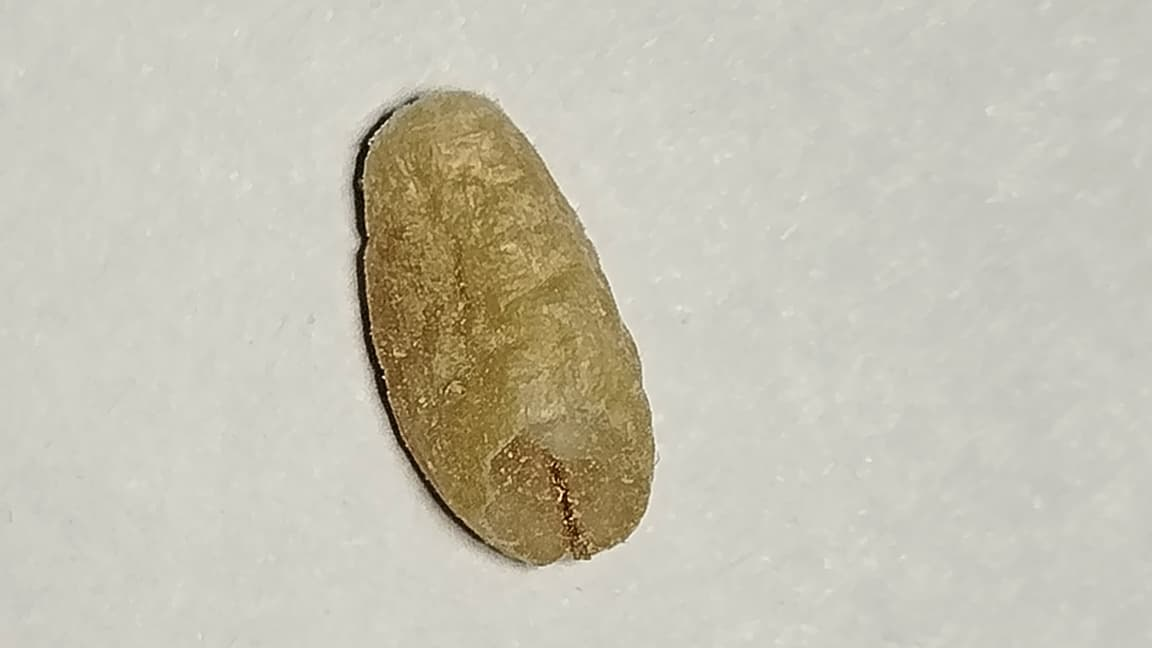damage: (357, 90, 653, 563)
insectdamage: (475, 385, 644, 563)
shriveledseed: (368, 123, 593, 371)
